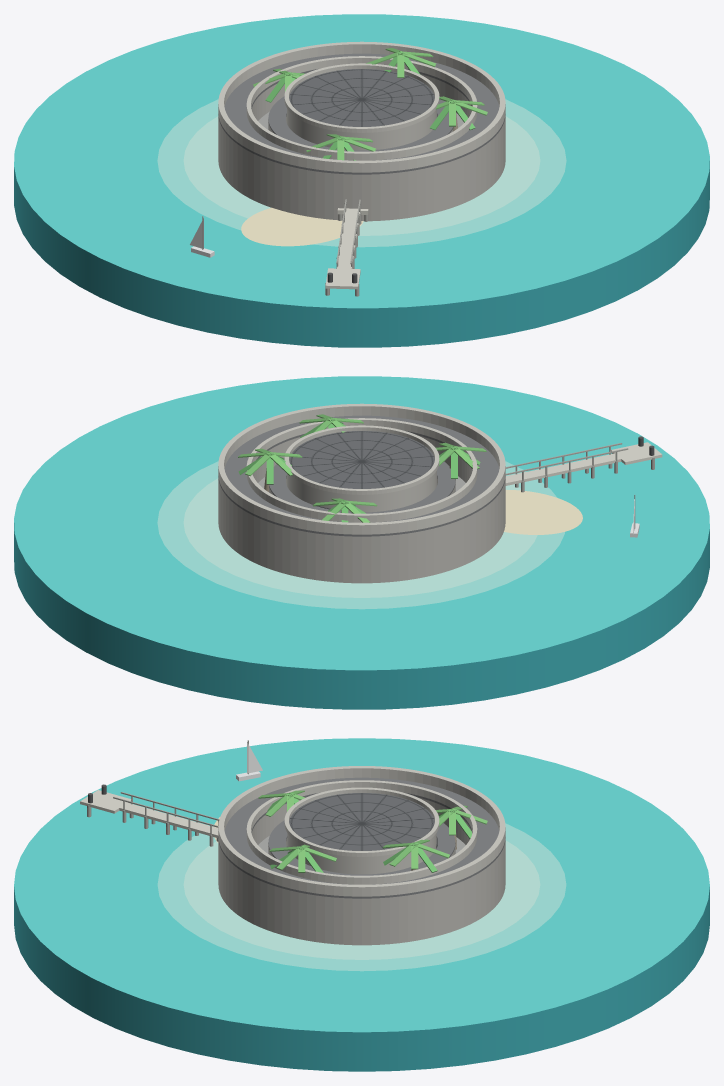
File: forte-sao-marcelo.gltf
3 renders of one model, top to bottom at view 1: azimuth 30°, elevation 25°; view 2: azimuth 150°, elevation 25°; view 3: azimuth 270°, elevation 25°, orthographic.
Parts seen in each view (by area): view 1: ForteSaoMarcelo; view 2: ForteSaoMarcelo; view 3: ForteSaoMarcelo.
Part boxes in pixels (box(x1,y1,x2,y2)): ForteSaoMarcelo: box(14, 14, 709, 347); ForteSaoMarcelo: box(14, 376, 709, 709); ForteSaoMarcelo: box(14, 738, 709, 1071).
Size of the model in its own units: 16 by 2.86 by 16.
Materials: 20 (1 with a texture image).
